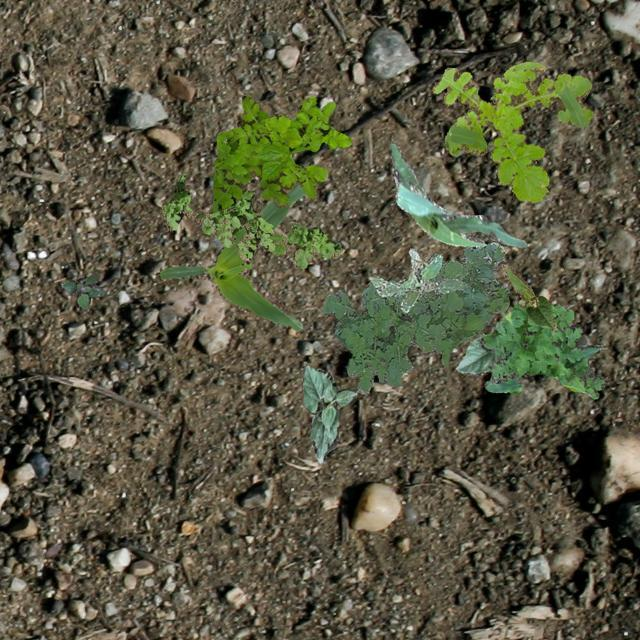crop: (158, 182, 304, 330), (388, 142, 526, 246), (302, 364, 356, 462), (500, 264, 556, 328), (454, 320, 500, 374)
weed: (321, 242, 508, 394), (432, 60, 592, 202), (160, 172, 340, 268), (212, 94, 350, 212), (478, 302, 606, 398), (370, 248, 468, 312), (60, 272, 104, 308)
